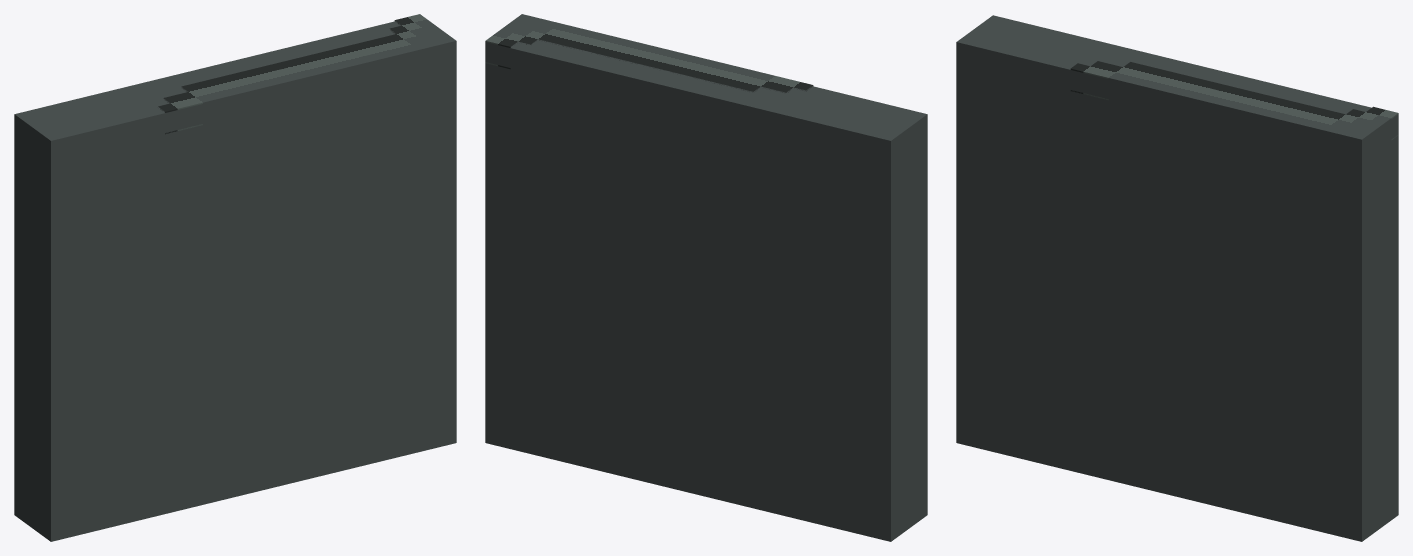
Rendered from CMU3DInteriorVehicleTankProp8Extra.glb.
The picture shows the model from 3 angles, left to right: view 1: azimuth 30°, elevation 25°; view 2: azimuth 150°, elevation 25°; view 3: azimuth 330°, elevation 25°; orthographic projection.
Visible parts, largest first — view 1: turret station equipment, console top, console top source finish, turret station equipment source finish; view 2: turret station equipment, console top, console top source finish; view 3: turret station equipment, console top, console top source finish, turret station equipment source finish.
Boxes of the visible parts, box(x1,y1,x2,y2) form: turret station equipment: box(14, 63, 456, 541); console top: box(14, 21, 456, 161); console top source finish: box(158, 14, 456, 112); turret station equipment source finish: box(165, 62, 456, 134); turret station equipment: box(485, 63, 927, 541); console top: box(485, 39, 927, 161); console top source finish: box(485, 14, 813, 92); turret station equipment: box(956, 63, 1398, 541); console top: box(956, 15, 1398, 160); console top source finish: box(1070, 61, 1398, 140); turret station equipment source finish: box(1070, 90, 1397, 161).
Bounding box in the file's own units: 1 × 0.948 × 0.1562.
2 materials, 1 textured.
